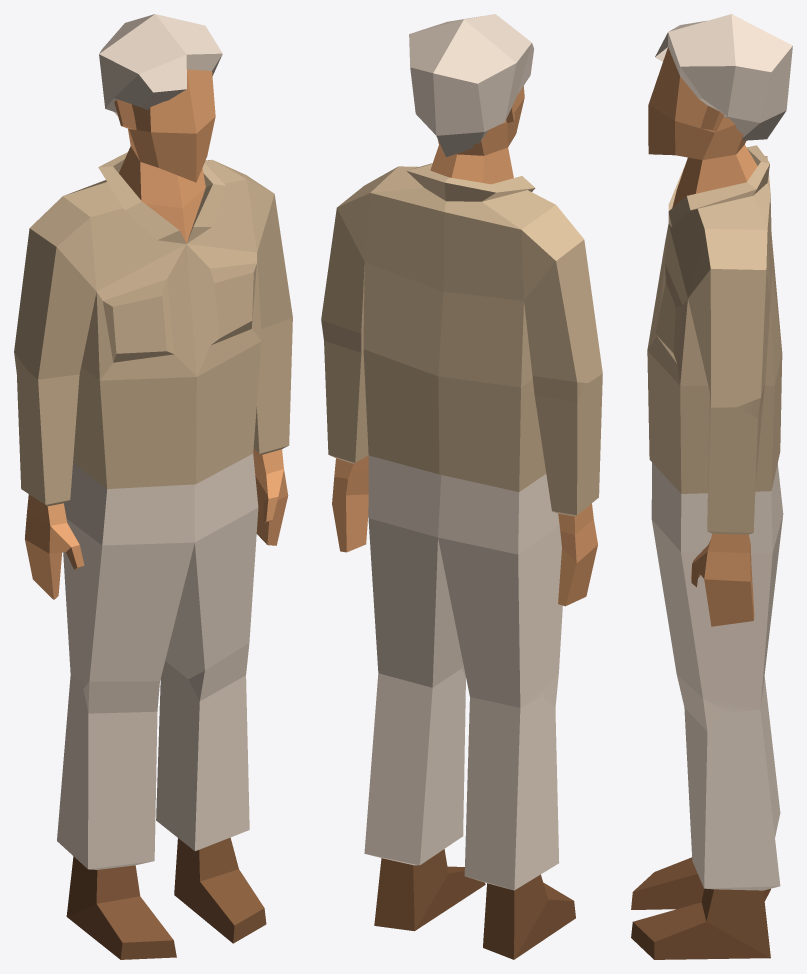
File: people_man-explorer.fbx
3 renders of one model, left to right at view 1: azimuth 30°, elevation 25°; view 2: azimuth 150°, elevation 25°; view 3: azimuth 270°, elevation 25°, orthographic.
Visible parts, largest first — view 1: people_man_explorer; view 2: people_man_explorer; view 3: people_man_explorer.
Boxes of the visible parts, <box> form: people_man_explorer: <box>14,14,292,959</box>; people_man_explorer: <box>321,14,602,959</box>; people_man_explorer: <box>631,14,792,959</box>.
Size of the model in its own units: 59.23 by 200 by 32.25.
